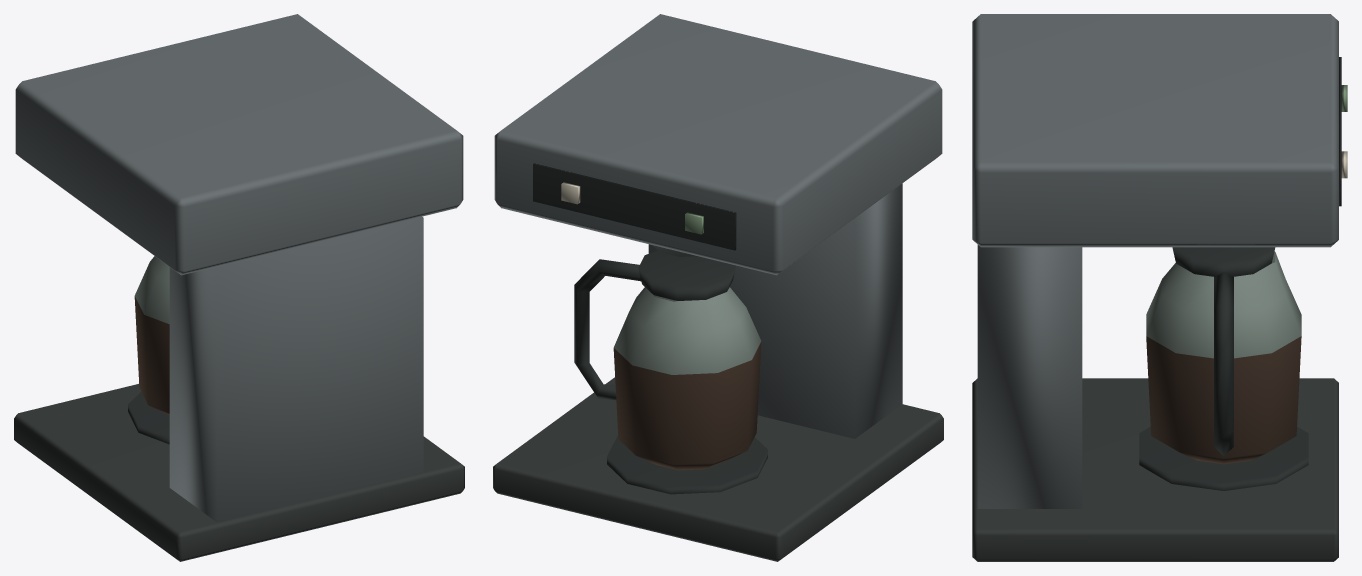
File: Diner_Coffee_Machine.fbx
3 renders of one model, left to right at view 1: azimuth 30°, elevation 25°; view 2: azimuth 150°, elevation 25°; view 3: azimuth 270°, elevation 25°, orthographic. The views are drawn at different scales.
Parts seen in each view (by area): view 1: Diner_Coffee_Machine; view 2: Diner_Coffee_Machine; view 3: Diner_Coffee_Machine.
Boxes of the visible parts, x1,y1,x2,y2 form: Diner_Coffee_Machine: (14,14,464,561); Diner_Coffee_Machine: (493,14,943,561); Diner_Coffee_Machine: (972,14,1347,561).
Size of the model in its own units: 0.35 by 0.42 by 0.358.
